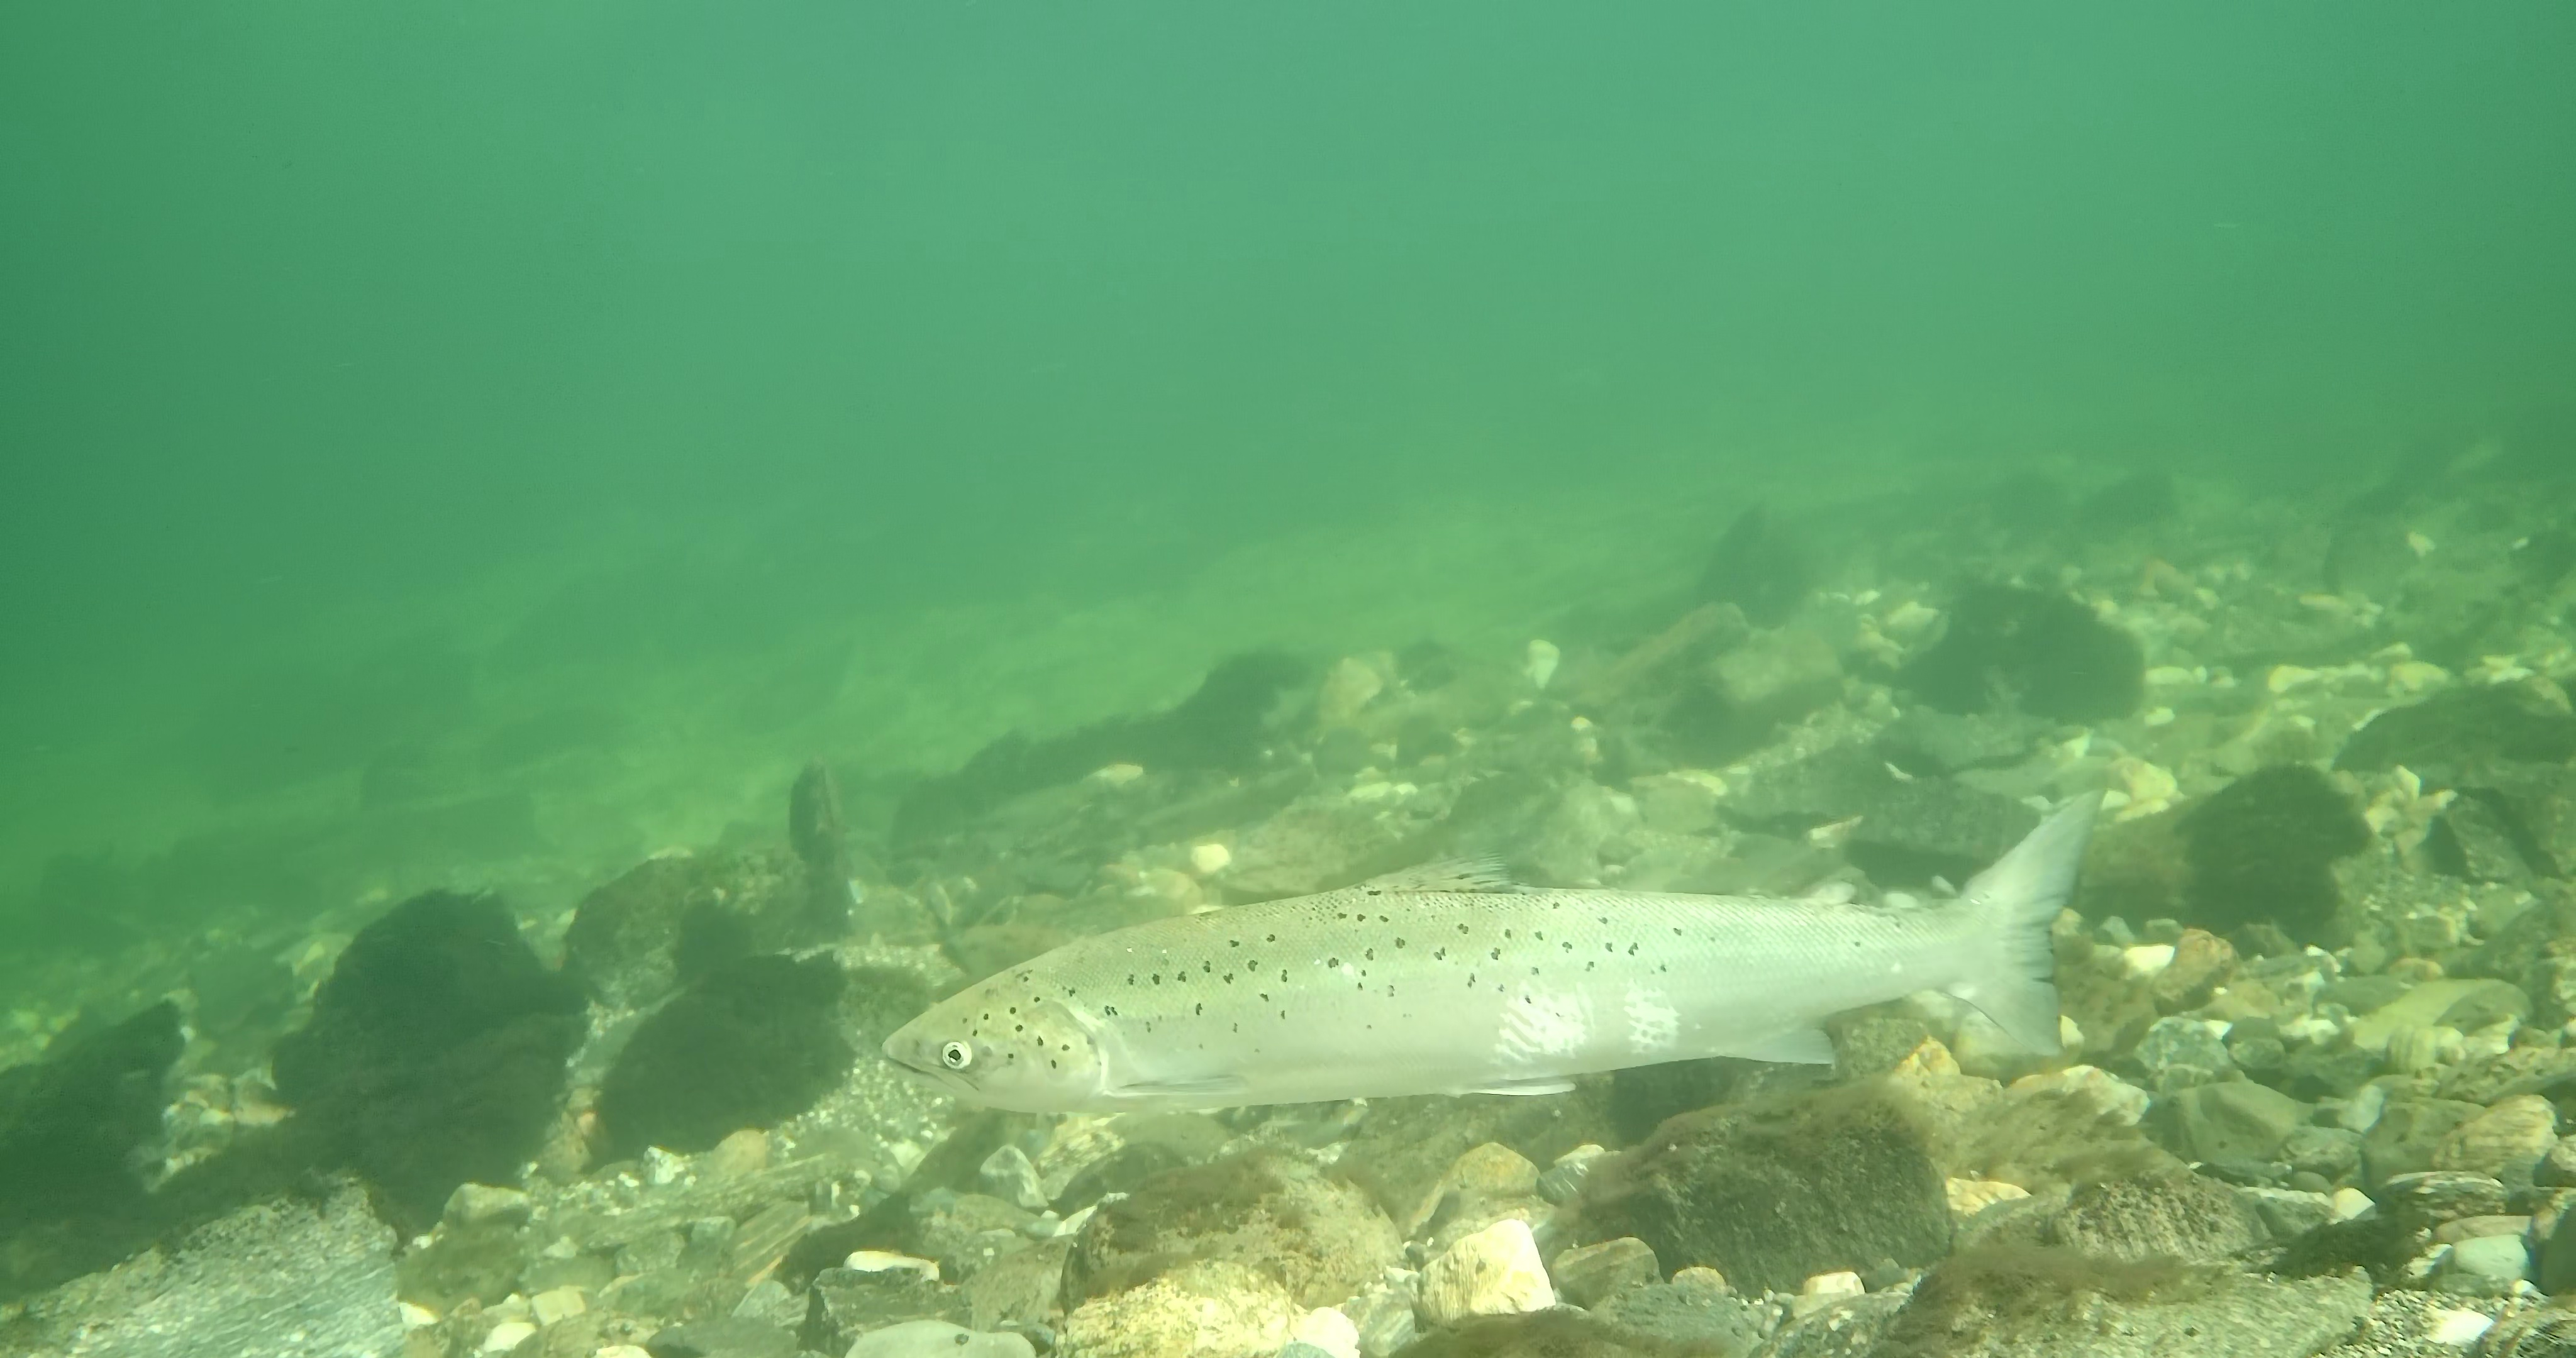salmon: (877, 785, 2107, 1118)
